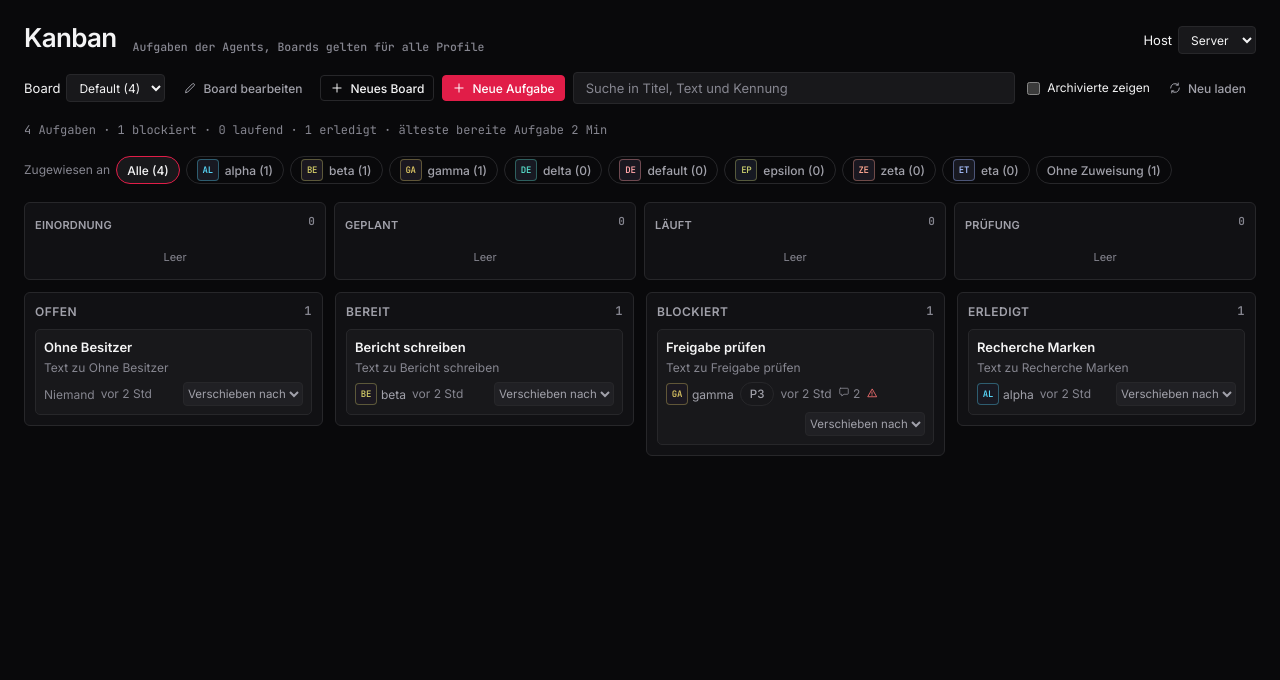
Kanban Detail und Anlegen › zeigt Fehler beim Speichern und behält die Eingabe
Expected: the text "Recherche Marken" is shown, x1=977 y1=339 x2=1095 y2=355
Click the button with aria-label "Aufgabe öffnen: Freigabe prüfen" at [796, 357], box x1=666 y1=338 x2=925 y2=376
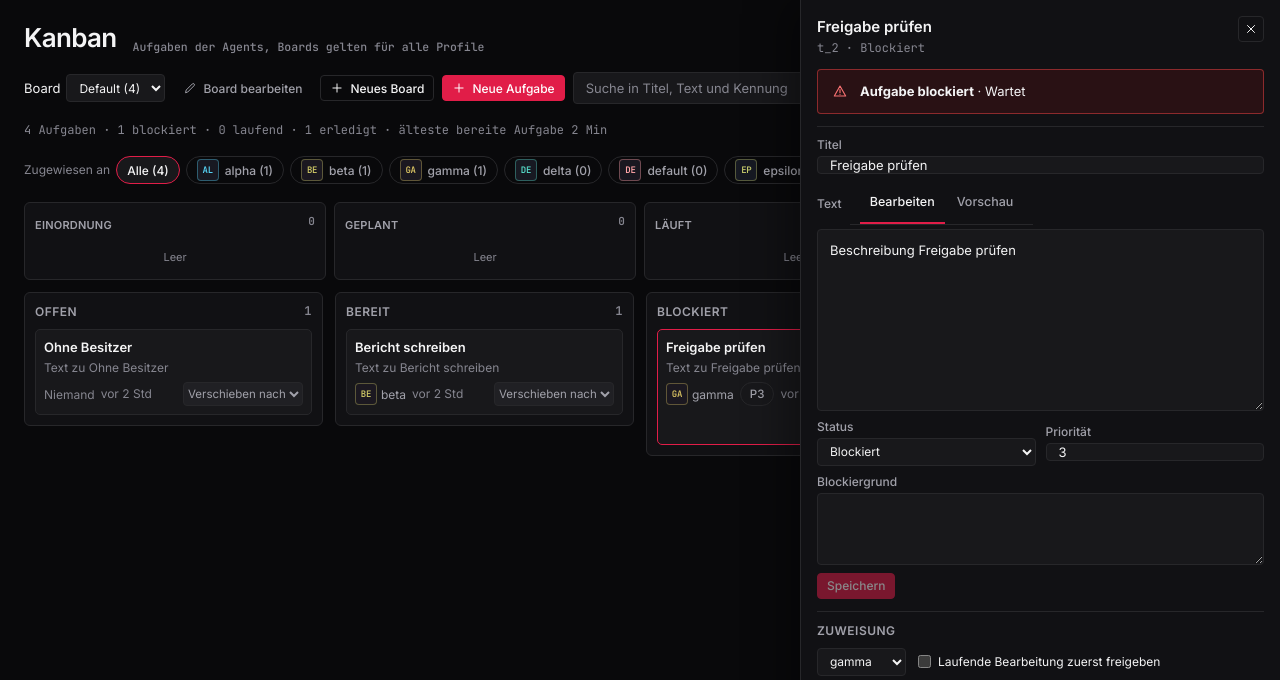
Replace the text in the field labelled "Titel" with "Neu" at [1040, 165], box x1=817 y1=156 x2=1264 y2=174
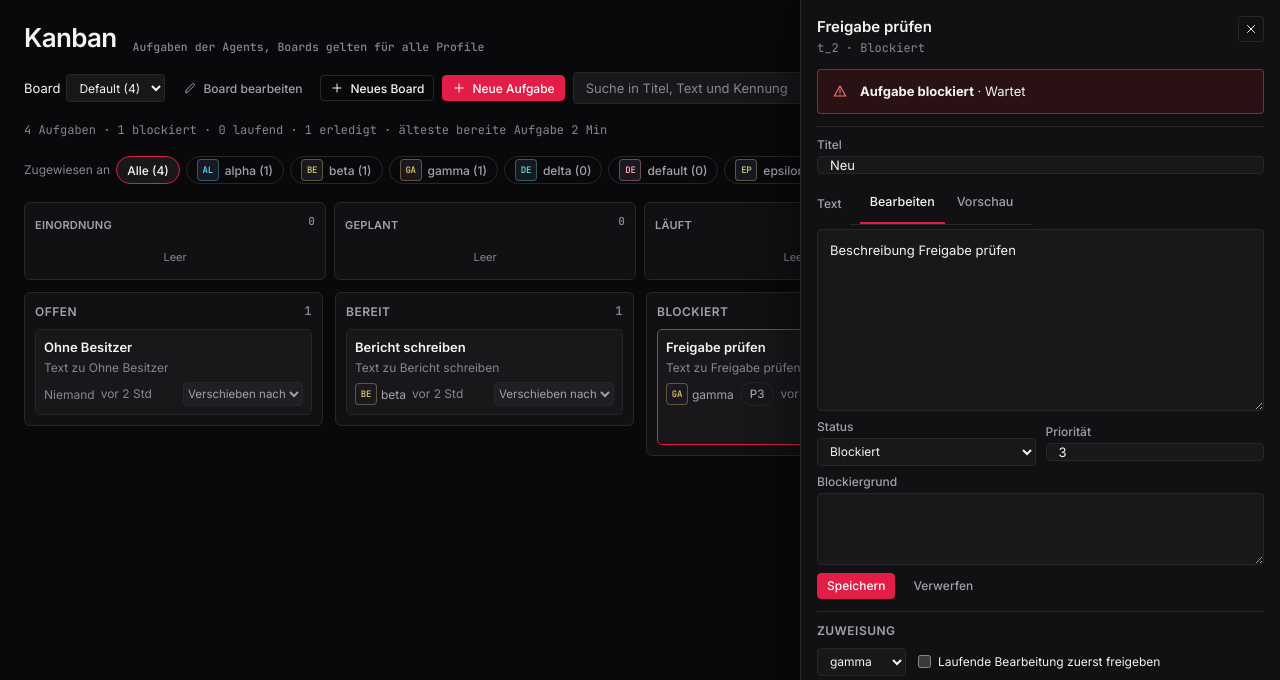
Click the button "Speichern" at [856, 586], box x1=817 y1=573 x2=896 y2=599
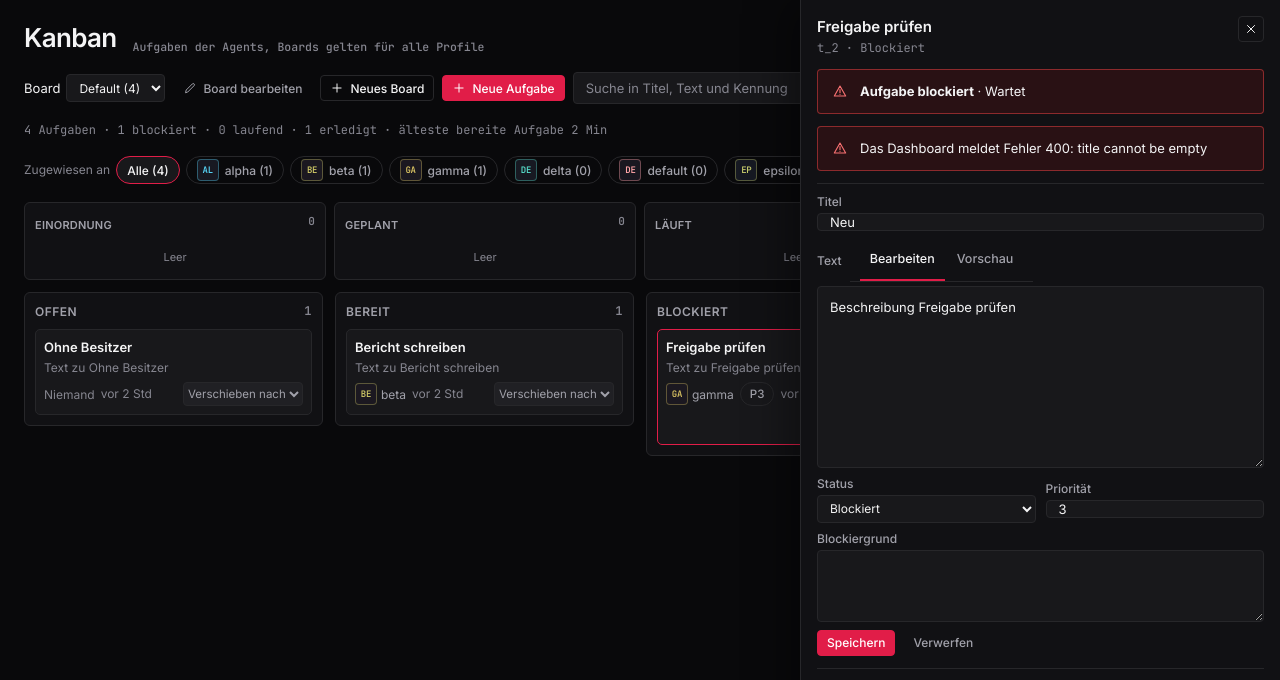
Expected: the message shows "title cannot be empty", x1=860 y1=140 x2=1207 y2=156
